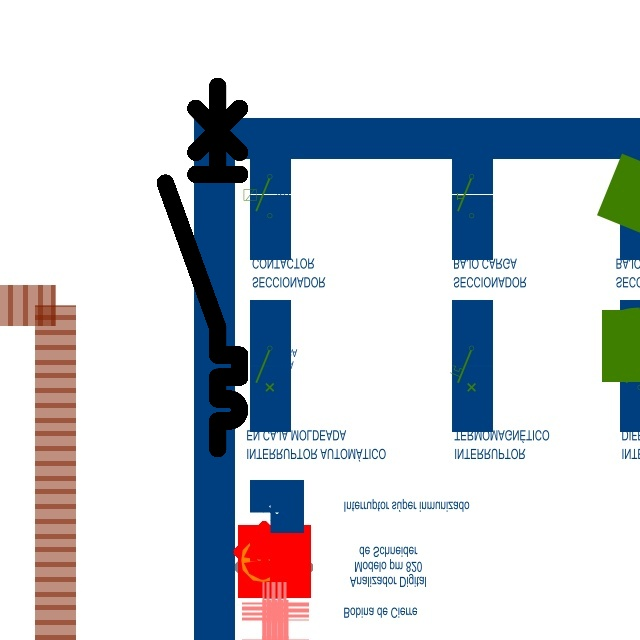interruptor_termomagnetico: (156, 77, 249, 458)
